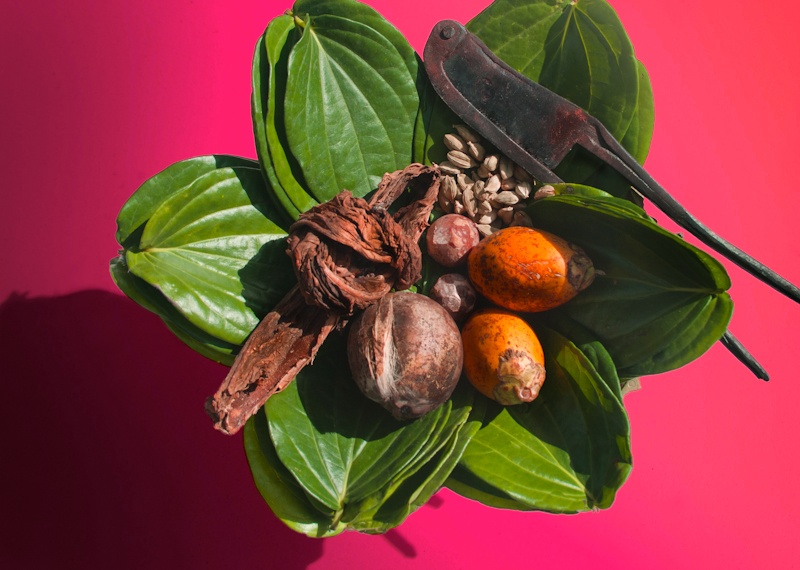bulathwita: (105, 5, 729, 544)
